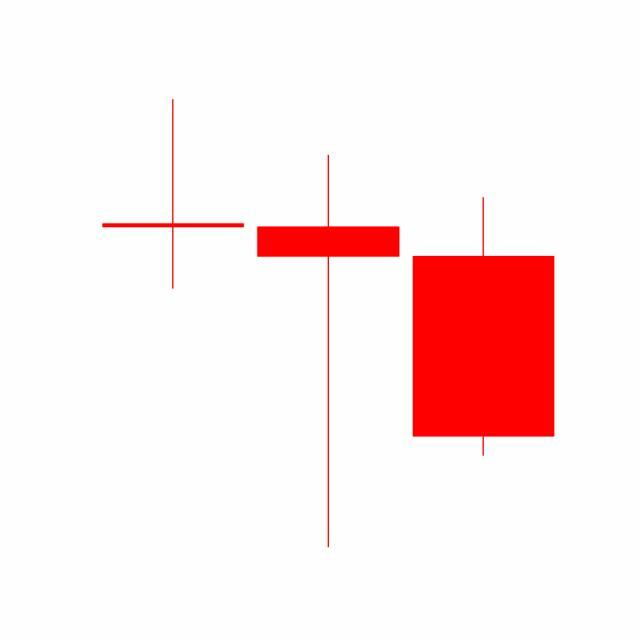Spinning Top: (250, 151, 407, 552)
